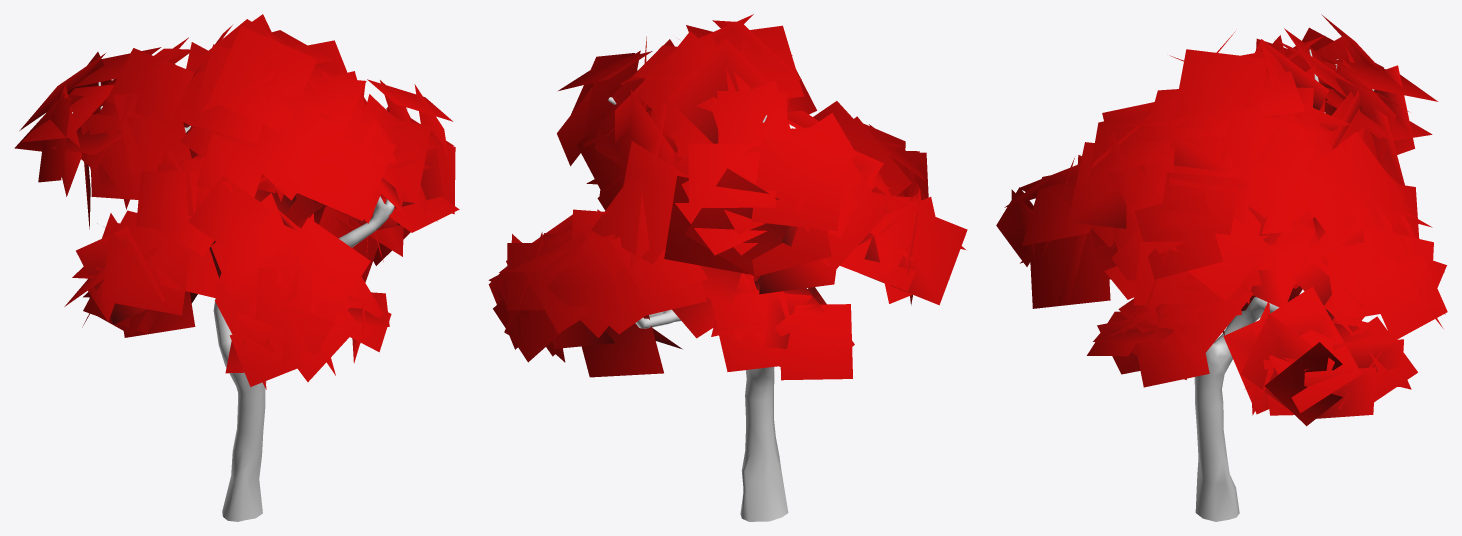
The model's file is SM_Tree4 1.fbx.
3 views of the same model, side by side, from view 1: azimuth 30°, elevation 25°; view 2: azimuth 150°, elevation 25°; view 3: azimuth 270°, elevation 25° (orthographic). The views are drawn at different scales.
Parts seen in each view (by area): view 1: Leaves04, Tree Trunk04; view 2: Leaves04, Tree Trunk04; view 3: Leaves04, Tree Trunk04.
Part boxes in pixels (left/top/right/bottom): Leaves04: left=14, top=14, right=459, bottom=389; Tree Trunk04: left=72, top=82, right=407, bottom=521; Leaves04: left=488, top=14, right=967, bottom=380; Tree Trunk04: left=608, top=97, right=788, bottom=521; Leaves04: left=996, top=14, right=1447, bottom=426; Tree Trunk04: left=1194, top=49, right=1374, bottom=521.
Size of the model in its own units: 4.77 by 5.81 by 4.87.
